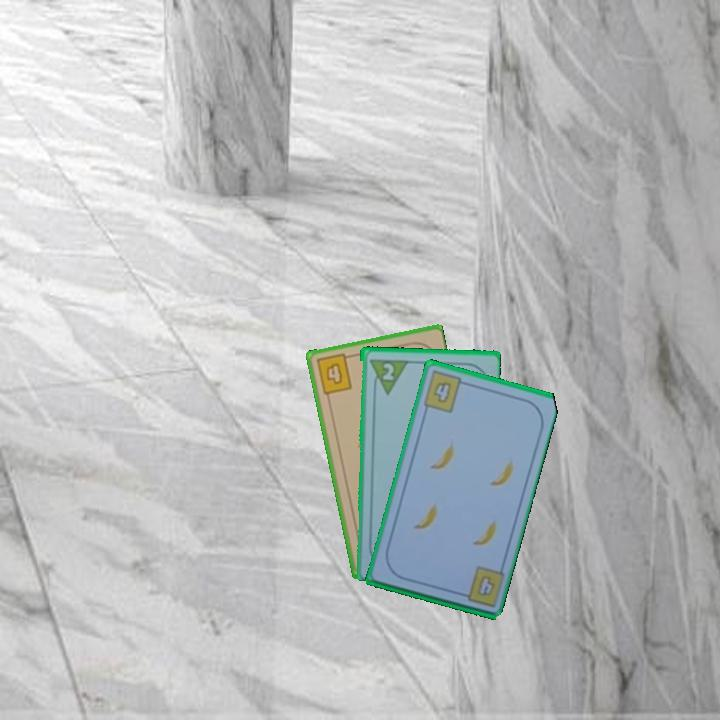2p: (365, 355, 409, 396)
4b: (419, 367, 470, 415), (313, 350, 355, 397), (473, 571, 498, 599)
